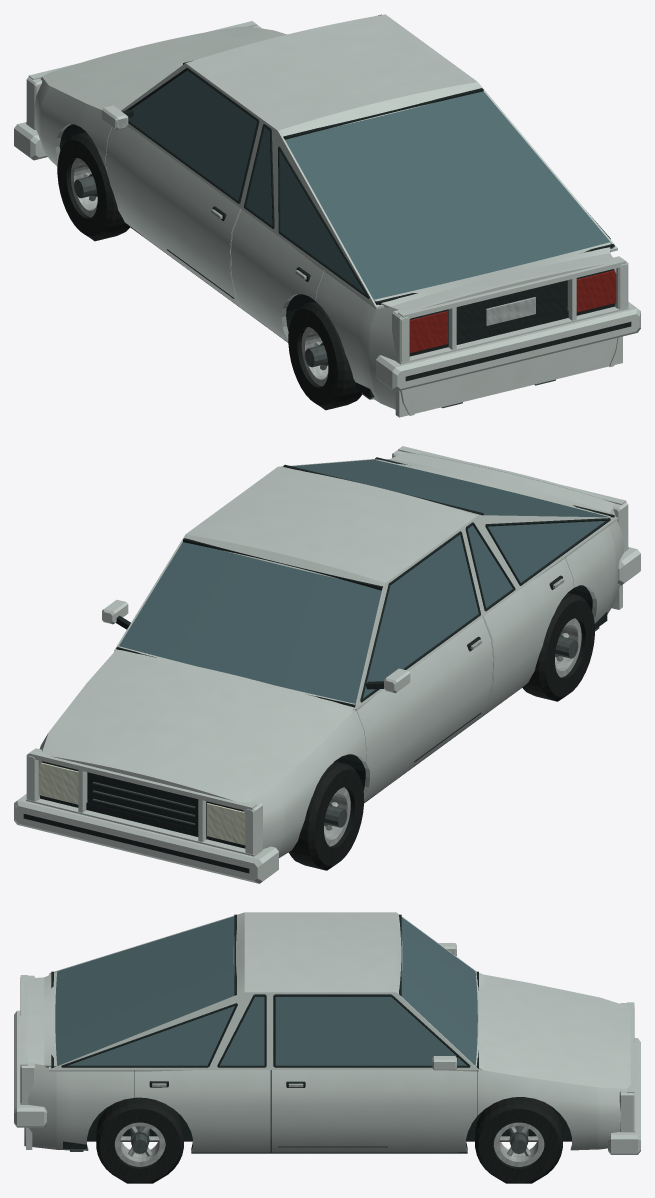
3 views of the same model, one above another, from view 1: azimuth 30°, elevation 25°; view 2: azimuth 150°, elevation 25°; view 3: azimuth 270°, elevation 25° (orthographic). The views are drawn at different scales.
Parts seen in each view (by area): view 1: B028-02_glazing_glass.001, B028-02_body_shell_paint.001, B028-02_roof_paint, B028-02_door_leaf_paint_front_door-1, B028-02_body_shell_paint, B028-02_glazing_glass_front_door-1, B028-02_bumper_paint, B028-02_door_leaf_paint_rear_door-1, B028-02_wheel_rubber_P-0.7750_-1.3600_0.3200, B028-02_wheel_rubber_P-0.7750_1.3900_0.3200, B028-02_body_shell_dark, B028-02_glazing_glass (+10 smaller); view 2: B028-02_body_shell_paint.001, B028-02_glazing_glass.001, B028-02_roof_paint, B028-02_door_leaf_paint_front_door-1, B028-02_body_shell_paint, B028-02_glazing_glass_front_door-1, B028-02_bumper_paint, B028-02_door_leaf_paint_rear_door-1, B028-02_wheel_rubber_P-0.7750_1.3900_0.3200, B028-02_body_shell_dark, B028-02_wheel_rubber_P-0.7750_-1.3600_0.3200, B028-02_glazing_glass (+11 smaller); view 3: B028-02_body_shell_paint.001, B028-02_glazing_glass.001, B028-02_door_leaf_paint_front_door1, B028-02_roof_paint, B028-02_body_shell_paint, B028-02_glazing_glass_front_door1, B028-02_door_leaf_paint_rear_door1, B028-02_wheel_rubber_P0.7750_1.3900_0.3200, B028-02_wheel_rubber_P0.7750_-1.3600_0.3200, B028-02_glazing_glass, B028-02_bumper_paint, B028-02_glazing_glass_rear_door1 (+9 smaller).
Part boxes in pixels (bbox=[...]): B028-02_glazing_glass.001: bbox=[285, 91, 611, 301]; B028-02_body_shell_paint.001: bbox=[26, 21, 628, 417]; B028-02_roof_paint: bbox=[186, 14, 477, 130]; B028-02_door_leaf_paint_front_door-1: bbox=[106, 126, 242, 309]; B028-02_body_shell_paint: bbox=[34, 77, 622, 415]; B028-02_glazing_glass_front_door-1: bbox=[128, 70, 257, 200]; B028-02_bumper_paint: bbox=[14, 122, 640, 391]; B028-02_door_leaf_paint_rear_door-1: bbox=[231, 209, 324, 341]; B028-02_wheel_rubber_P-0.7750_-1.3600_0.3200: bbox=[288, 301, 361, 410]; B028-02_wheel_rubber_P-0.7750_1.3900_0.3200: bbox=[57, 132, 129, 241]; B028-02_body_shell_dark: bbox=[409, 280, 614, 356]; B028-02_glazing_glass: bbox=[280, 151, 364, 292]; B028-02_body_shell_paint.001: bbox=[26, 446, 628, 856]; B028-02_glazing_glass.001: bbox=[119, 459, 611, 703]; B028-02_roof_paint: bbox=[186, 467, 477, 582]; B028-02_door_leaf_paint_front_door-1: bbox=[356, 617, 493, 802]; B028-02_body_shell_paint: bbox=[38, 503, 624, 857]; B028-02_glazing_glass_front_door-1: bbox=[363, 534, 478, 698]; B028-02_bumper_paint: bbox=[14, 547, 640, 883]; B028-02_door_leaf_paint_rear_door-1: bbox=[481, 556, 573, 717]; B028-02_wheel_rubber_P-0.7750_1.3900_0.3200: bbox=[288, 761, 363, 870]; B028-02_body_shell_dark: bbox=[40, 772, 245, 848]; B028-02_wheel_rubber_P-0.7750_-1.3600_0.3200: bbox=[522, 592, 594, 701]; B028-02_glazing_glass: bbox=[488, 521, 604, 582]; B028-02_body_shell_paint.001: bbox=[20, 912, 634, 1149]; B028-02_glazing_glass.001: bbox=[54, 916, 477, 1067]; B028-02_door_leaf_paint_front_door1: bbox=[271, 1067, 477, 1152]; B028-02_roof_paint: bbox=[244, 912, 396, 992]; B028-02_body_shell_paint: bbox=[24, 973, 626, 1152]; B028-02_glazing_glass_front_door1: bbox=[275, 996, 466, 1065]; B028-02_door_leaf_paint_rear_door1: bbox=[135, 1070, 269, 1152]; B028-02_wheel_rubber_P0.7750_1.3900_0.3200: bbox=[475, 1097, 562, 1183]; B028-02_wheel_rubber_P0.7750_-1.3600_0.3200: bbox=[96, 1096, 183, 1183]; B028-02_glazing_glass: bbox=[68, 1006, 234, 1065]; B028-02_bumper_paint: bbox=[14, 1010, 640, 1154]; B028-02_glazing_glass_rear_door1: bbox=[220, 996, 264, 1065].
Bounding box in the file's own units: 2.03 × 1.48 × 4.55.
9 materials, 9 textured.
